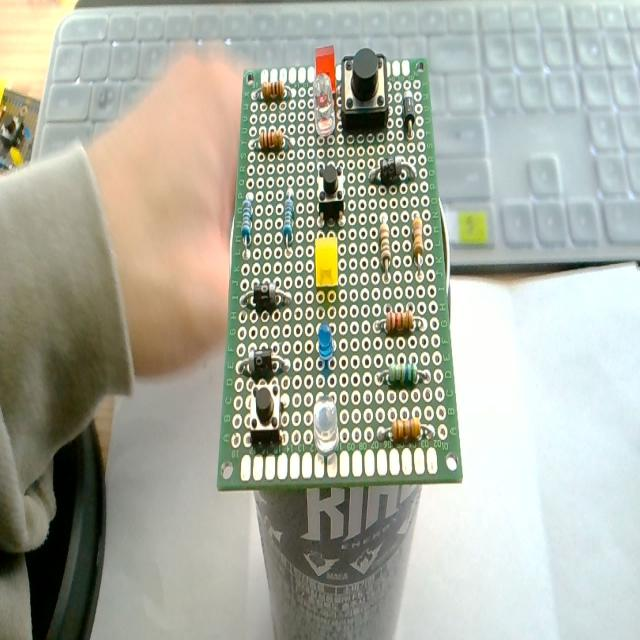diode: (364, 152, 422, 191), (235, 337, 287, 380), (238, 284, 292, 314), (396, 80, 417, 146)
led: (304, 389, 342, 468), (310, 74, 340, 142), (311, 238, 343, 295), (312, 311, 338, 374)
resistor: (370, 351, 432, 389), (379, 409, 439, 445), (374, 203, 400, 281), (251, 122, 297, 162), (379, 304, 424, 344), (249, 75, 291, 109), (409, 206, 429, 276), (281, 180, 296, 255), (238, 191, 255, 255)
switch: (340, 44, 390, 130), (246, 382, 286, 449), (310, 161, 350, 219)
